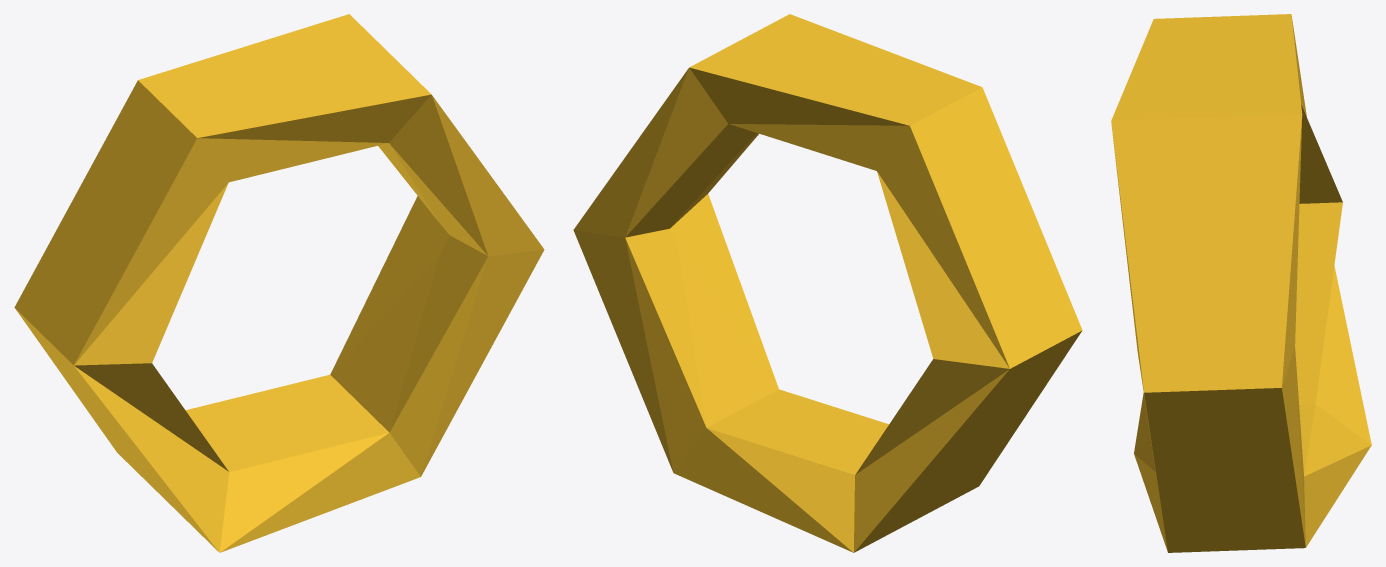
The model's file is food_time_pointer_outside.FBX.
3 views of the same model, side by side, from view 1: azimuth 30°, elevation 25°; view 2: azimuth 150°, elevation 25°; view 3: azimuth 270°, elevation 25° (orthographic). The views are drawn at different scales.
Parts seen in each view (by area): view 1: Object001; view 2: Object001; view 3: Object001.
Part boxes in pixels (<box>): Object001: <box>14,14,544,552</box>; Object001: <box>573,14,1082,552</box>; Object001: <box>1111,14,1371,552</box>.
Bounding box in the file's own units: 11.67 × 10.35 × 5.48.
